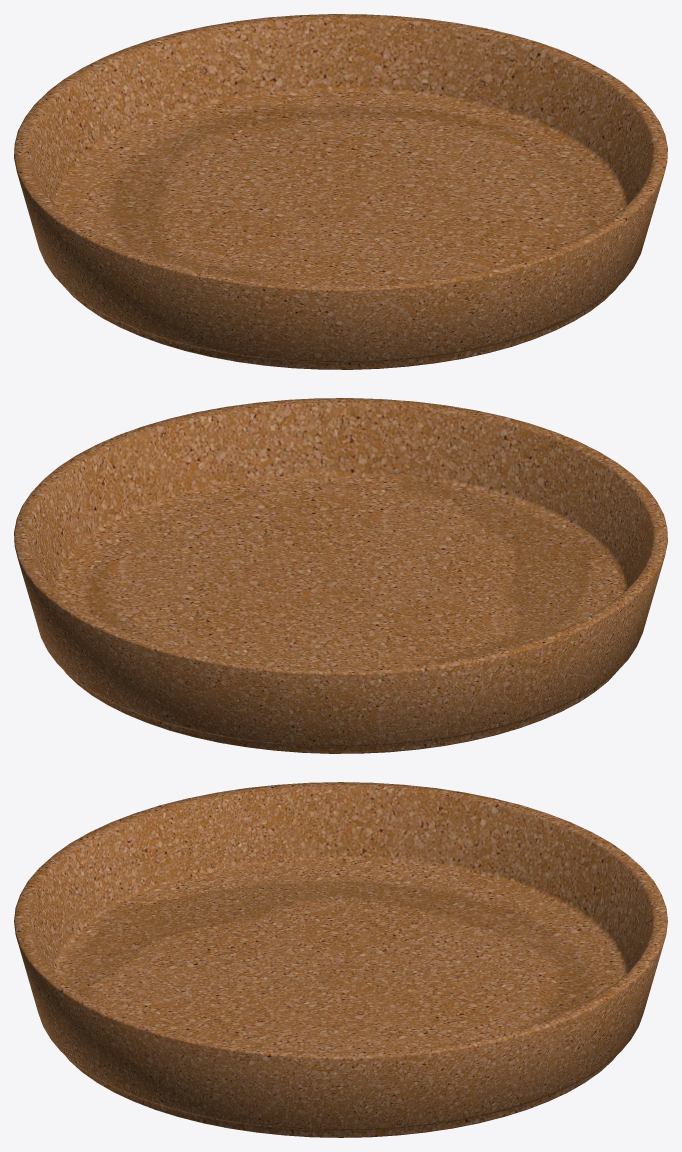
The model's file is coaster.glb.
The picture shows the model from 3 angles, top to bottom: view 1: azimuth 30°, elevation 25°; view 2: azimuth 150°, elevation 25°; view 3: azimuth 270°, elevation 25°; orthographic projection.
Visible parts, largest first — view 1: Cork_Coaster; view 2: Cork_Coaster; view 3: Cork_Coaster.
Part boxes in pixels (<box>): Cork_Coaster: <box>14,14,667,369</box>; Cork_Coaster: <box>14,398,667,753</box>; Cork_Coaster: <box>14,782,667,1137</box>.
Bounding box in the file's own units: 0.0964 × 0.0157 × 0.0964.
1 material, 1 textured.
